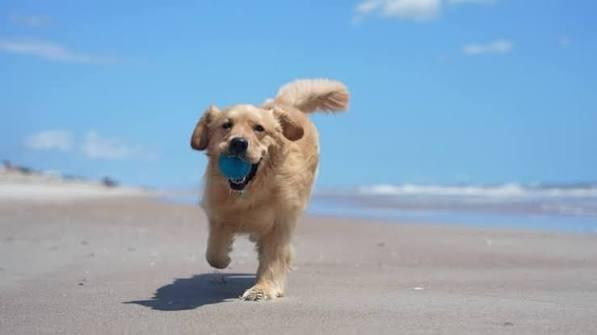adult_dog: (190, 77, 350, 300)
